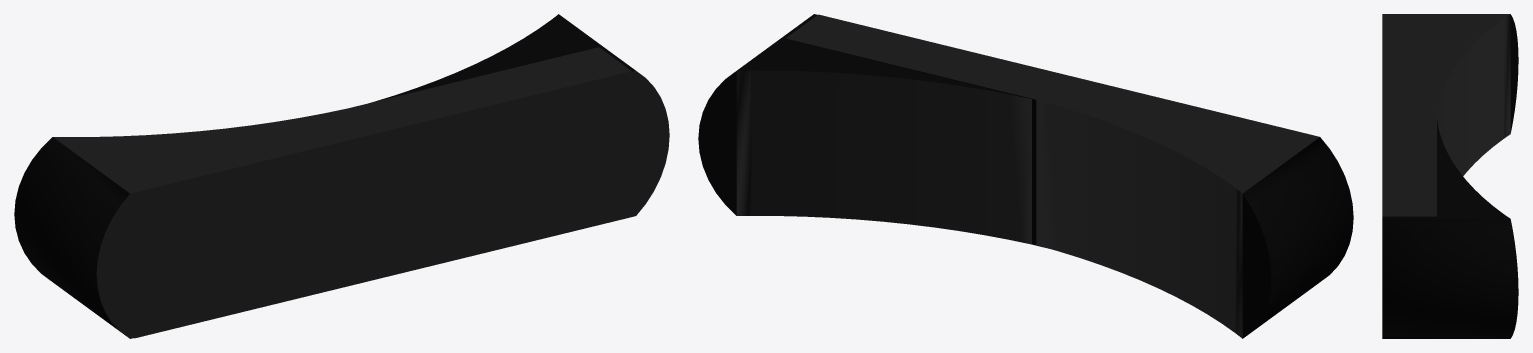
File: power_button.fbx
3 renders of one model, left to right at view 1: azimuth 30°, elevation 25°; view 2: azimuth 150°, elevation 25°; view 3: azimuth 270°, elevation 25°, orthographic. The views are drawn at different scales.
Parts seen in each view (by area): view 1: G-Object.022; view 2: G-Object.022; view 3: G-Object.022.
Boxes of the visible parts, x1,y1,x2,y2 form: G-Object.022: (14, 14, 669, 338); G-Object.022: (698, 14, 1353, 338); G-Object.022: (1382, 14, 1518, 338).
Bounding box in the file's own units: 2.53 × 0.6164 × 0.63.
